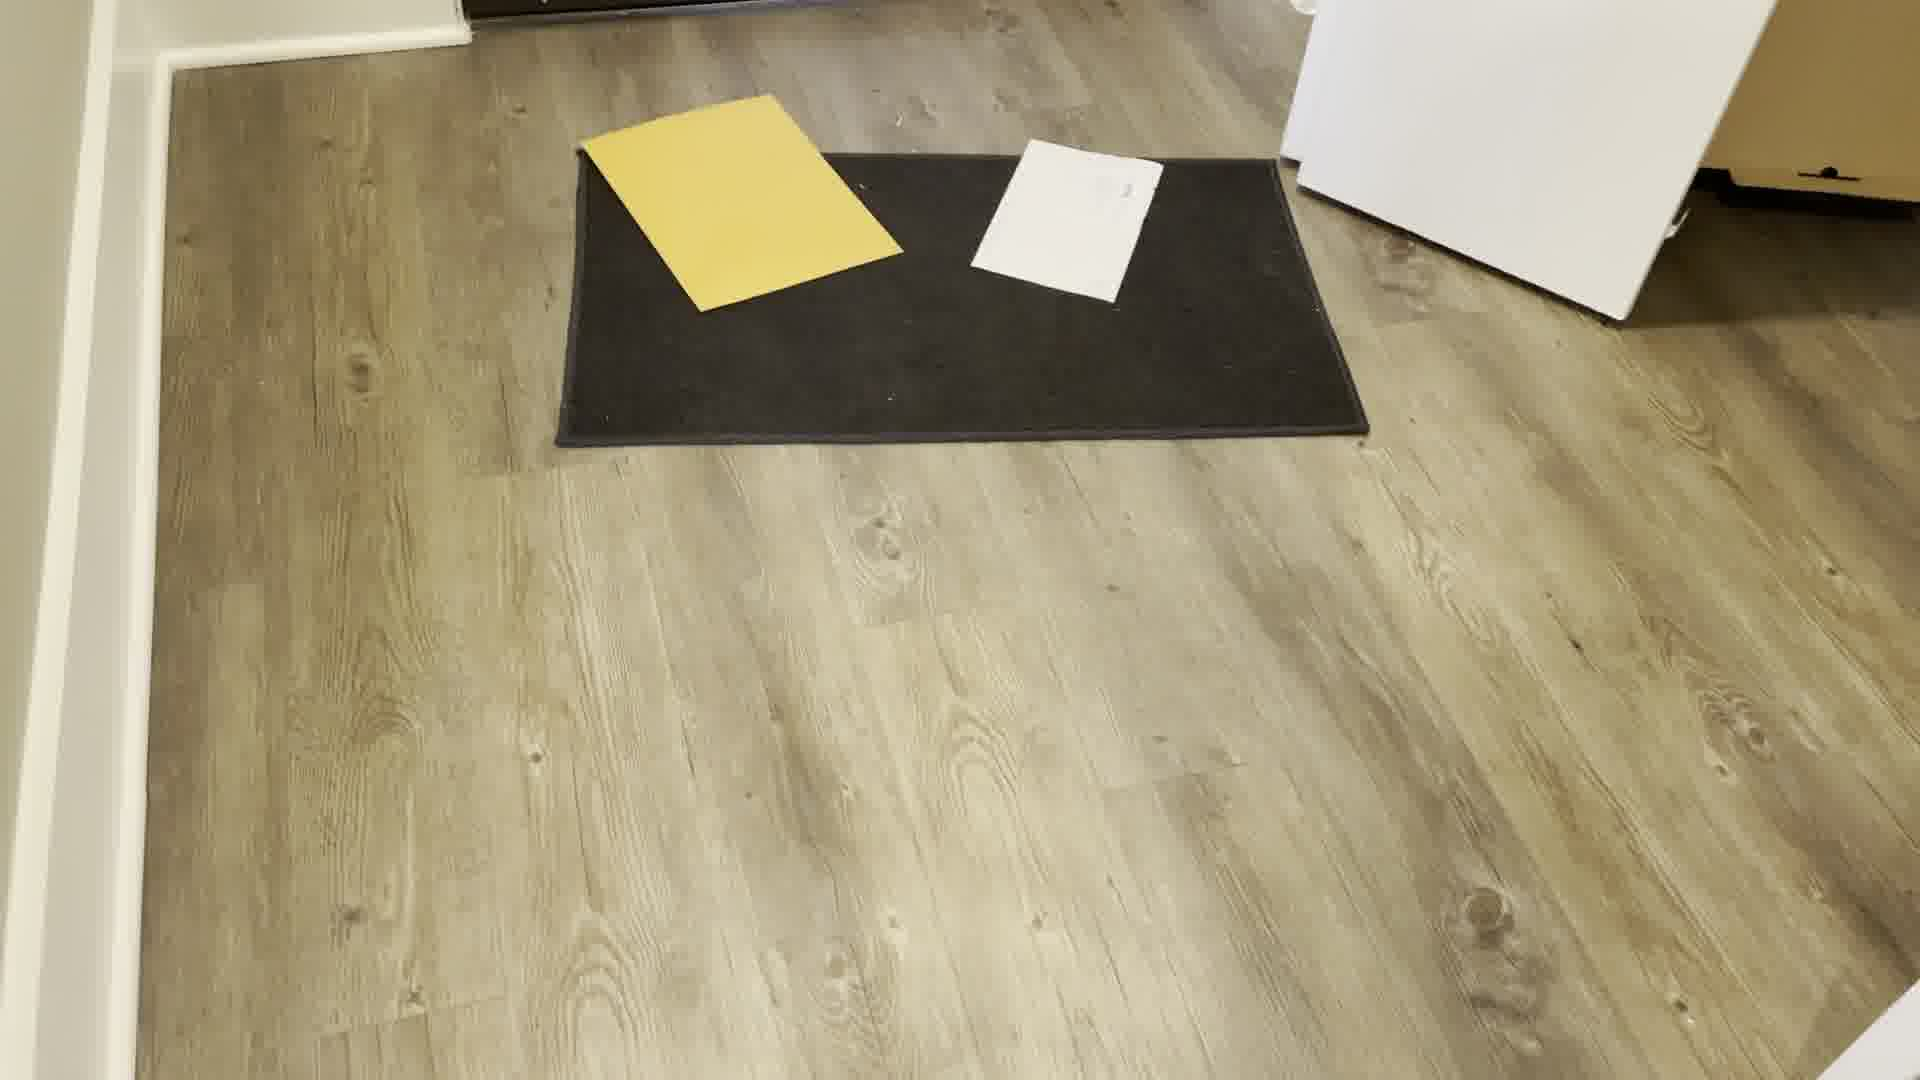envelope: (564, 84, 909, 324), (967, 129, 1172, 307)
